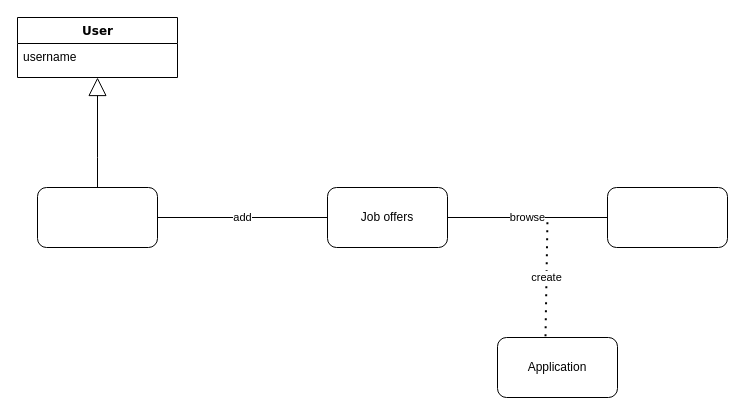
Some shapes in this 745 by 415 pixel diagram are drawn without their labels. The centre of each missing label's shape, as x and y in pixels:
"Candidates" belongs at (667,217).
"Employer" belongs at (97,217).
